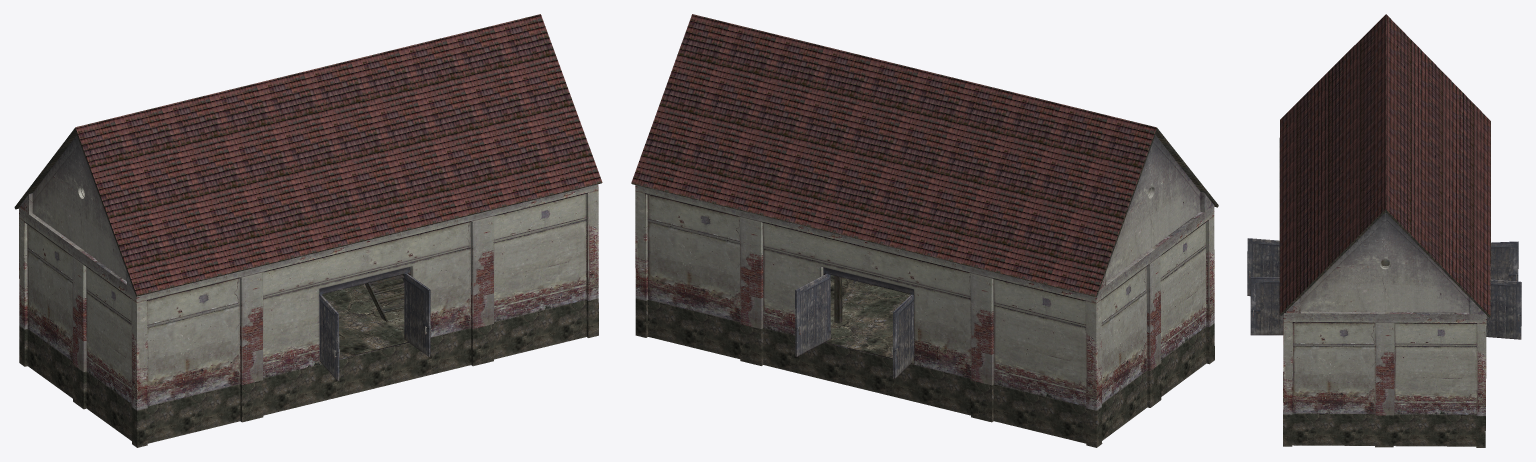
File: dayz_barn_small.glb
3 views of the same model, side by side, from view 1: azimuth 30°, elevation 25°; view 2: azimuth 150°, elevation 25°; view 3: azimuth 270°, elevation 25° (orthographic). The views are drawn at different scales.
Parts seen in each view (by area): view 1: Object001___000001D99FD531F8.jpg__000001D99FD929B8.jpg__0000, mesh_262___000001D99FD59078.jpg__000001D99FD921F8.jpg__00000, mesh_261___000001D99FD90F78.jpg__000001D99FD531F8.jpg__00000, mesh_262_Material #25_0, mesh_262___000001D99FD92EF8.jpg__000001D99FD921F8.jpg__00000; view 2: Object001___000001D99FD531F8.jpg__000001D99FD929B8.jpg__0000, mesh_262___000001D99FD59078.jpg__000001D99FD921F8.jpg__00000, mesh_261___000001D99FD90F78.jpg__000001D99FD531F8.jpg__00000, mesh_262_Material #25_0, mesh_262___000001D99FD92EF8.jpg__000001D99FD921F8.jpg__00000; view 3: Object001___000001D99FD531F8.jpg__000001D99FD929B8.jpg__0000, mesh_262___000001D99FD59078.jpg__000001D99FD921F8.jpg__00000, mesh_262_Material #25_0, mesh_261___000001D99FD90F78.jpg__000001D99FD531F8.jpg__00000, mesh_262___000001D99FD92EF8.jpg__000001D99FD921F8.jpg__00000.
Part boxes in pixels (bbox=[...]): Object001___000001D99FD531F8.jpg__000001D99FD929B8.jpg__0000: bbox=[75, 14, 602, 295]; mesh_262___000001D99FD59078.jpg__000001D99FD921F8.jpg__00000: bbox=[19, 184, 598, 410]; mesh_261___000001D99FD90F78.jpg__000001D99FD531F8.jpg__00000: bbox=[19, 278, 598, 447]; mesh_262_Material #25_0: bbox=[19, 135, 133, 289]; mesh_262___000001D99FD92EF8.jpg__000001D99FD921F8.jpg__00000: bbox=[14, 127, 601, 322]; Object001___000001D99FD531F8.jpg__000001D99FD929B8.jpg__0000: bbox=[631, 14, 1156, 296]; mesh_262___000001D99FD59078.jpg__000001D99FD921F8.jpg__00000: bbox=[635, 185, 1214, 410]; mesh_261___000001D99FD90F78.jpg__000001D99FD531F8.jpg__00000: bbox=[635, 275, 1214, 447]; mesh_262_Material #25_0: bbox=[1099, 135, 1213, 290]; mesh_262___000001D99FD92EF8.jpg__000001D99FD921F8.jpg__00000: bbox=[631, 128, 1218, 323]; Object001___000001D99FD531F8.jpg__000001D99FD929B8.jpg__0000: bbox=[1279, 14, 1490, 315]; mesh_262___000001D99FD59078.jpg__000001D99FD921F8.jpg__00000: bbox=[1247, 238, 1521, 415]; mesh_262_Material #25_0: bbox=[1285, 212, 1485, 314]; mesh_261___000001D99FD90F78.jpg__000001D99FD531F8.jpg__00000: bbox=[1283, 372, 1485, 447]; mesh_262___000001D99FD92EF8.jpg__000001D99FD921F8.jpg__00000: bbox=[1280, 209, 1490, 317].
Size of the model in its own units: 0.2446 by 0.1401 by 0.1455.
Materials: 7 (7 with a texture image).
